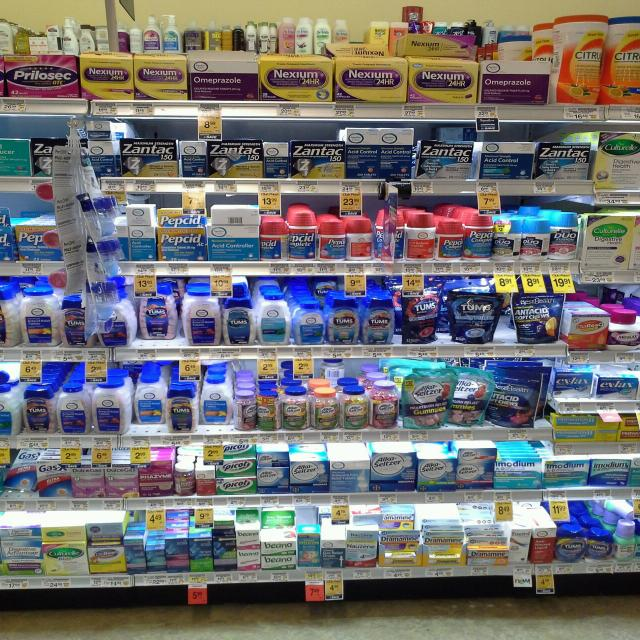unorganised: (444, 366, 494, 426), (400, 285, 443, 345), (136, 282, 179, 341), (199, 371, 234, 426), (3, 449, 44, 492), (136, 371, 168, 426), (553, 369, 593, 400), (296, 530, 321, 566), (349, 503, 382, 526)
